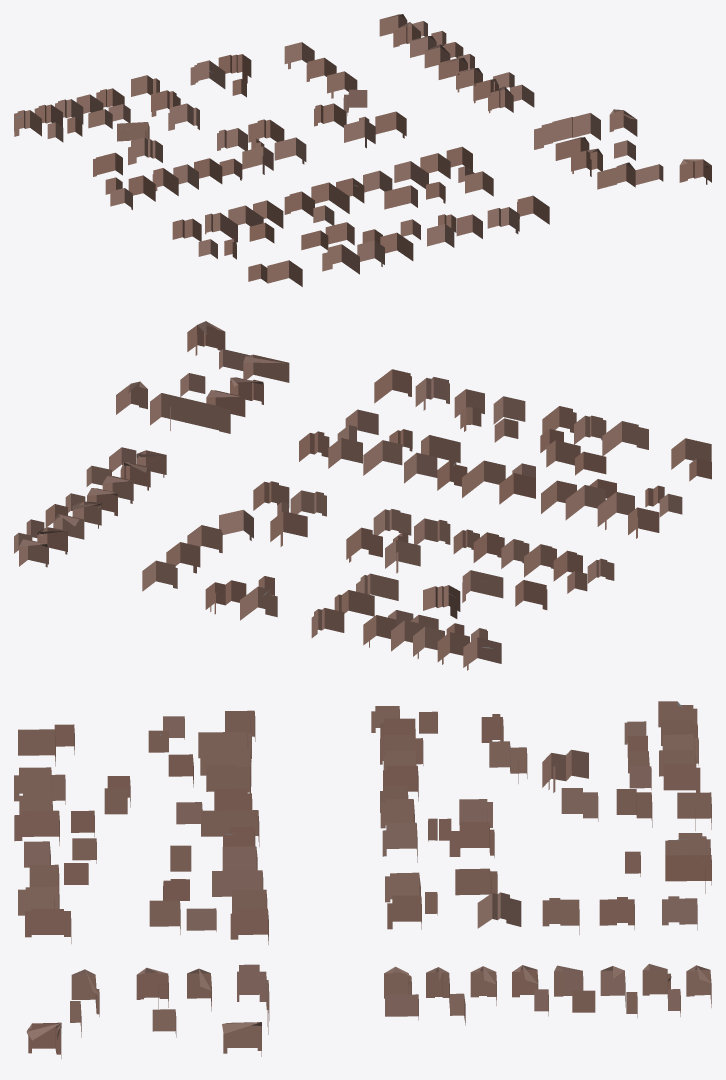
File: c_1642_17829_buildings_residential.glb
3 renders of one model, top to bottom at view 1: azimuth 30°, elevation 25°; view 2: azimuth 150°, elevation 25°; view 3: azimuth 270°, elevation 25°, orthographic. The views are drawn at different scales.
Parts seen in each view (by area): view 1: geometry_0; view 2: geometry_0; view 3: geometry_0.
Boxes of the visible parts, x1,y1,x2,y2 form: geometry_0: (14, 14, 711, 286); geometry_0: (14, 321, 711, 670); geometry_0: (14, 701, 711, 1058).
Size of the model in its own units: 265 by 11.08 by 231.
